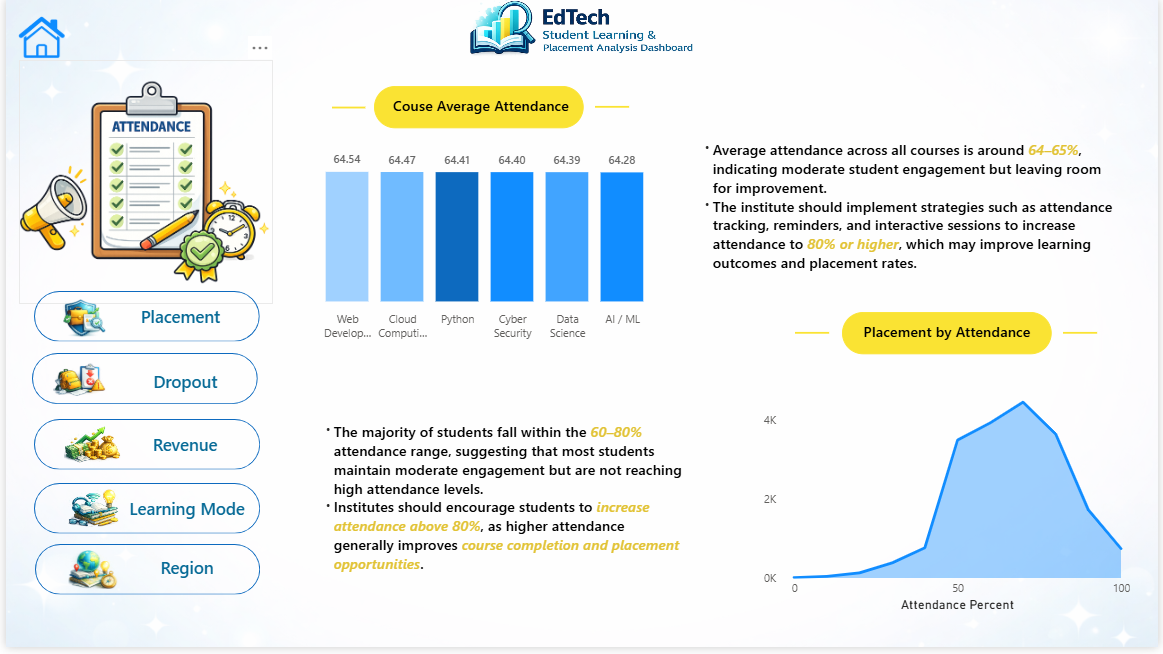

This screenshot's page, from the dashboard's own definition file:
{"tool":"powerbi","page":{"name":"Attendance page","canvas":[1280,720],"ordinal":1},"visuals":[{"type":"clusteredColumnChart","fields":{"Category":["project students_data.Course_Name"],"Y":["project students_data.Avg Attendance"]},"box":[317.5,155.2,421.2,231.5],"z":0},{"type":"shape","box":[31,466.6,251.2,56.4],"z":0,"group":"g2"},{"type":"areaChart","fields":{"Category":["project students_data.Attendance_Percent (bins) 3 (bins)"],"Y":["project students_data.Total plased Student"]},"box":[836.5,409.5,417.3,276.2],"z":1000},{"type":"textbox","box":[127,476.3,144.5,39],"z":1000,"group":"g2"},{"type":"image","box":[387.1,0,505.8,68.1],"z":2000},{"type":"image","box":[64,472.8,62.7,43.2],"z":2000,"group":"g2"},{"type":"image","box":[13.8,17.5,52.5,50],"z":3000},{"type":"shape","box":[31,537.6,251.2,56.4],"z":3000,"group":"g3"},{"type":"textbox","box":[408.9,96.9,233.4,46.7],"z":4000},{"type":"textbox","box":[129,548.1,144.5,39],"z":4000,"group":"g3"},{"type":"shape","box":[654,91.1,37.9,57.4],"z":5000},{"type":"image","box":[66.2,544.5,62.7,43.2],"z":5000,"group":"g3"},{"type":"textbox","box":[929.1,347.5,233.4,46.7],"z":6000},{"type":"shape","box":[32.8,605.9,250.2,56.4],"z":6000,"group":"g4"},{"type":"shape","box":[1174.3,341.7,37.9,57.4],"z":7000},{"type":"textbox","box":[129.2,613.5,144.5,39],"z":7000,"group":"g4"},{"type":"shape","box":[876.6,341.7,37.9,57.4],"z":8000},{"type":"image","box":[66.3,612.3,62.7,43.2],"z":8000,"group":"g4"},{"type":"textbox","box":[762.6,150.8,483.4,171.2],"z":9000},{"type":"textbox","box":[340.8,464.5,421.2,201.3],"z":10000},{"type":"shape","box":[31,324.4,250.7,56.2],"z":12000,"group":"g1"},{"type":"textbox","box":[120.7,333.9,145.4,39],"z":13000,"group":"g1"},{"type":"image","box":[14.2,67.4,282,271.3],"z":14000},{"type":"image","box":[55.1,333,62.3,43],"z":14000,"group":"g1"},{"type":"group","id":"g1","title":"Group 1","box":[31,324.4,250.9,56.7],"z":15000},{"type":"group","id":"g2","title":"Group 2","box":[31,466.6,250.9,56.7],"z":16000},{"type":"group","id":"g3","title":"Group 3","box":[31,537.6,251.8,56.7],"z":17000},{"type":"group","id":"g4","title":"Group 4","box":[32.8,605.9,250,56.7],"z":18000},{"type":"shape","box":[362.1,91.7,37.2,56.7],"z":19000},{"type":"shape","box":[29.3,392.8,250.8,56.7],"z":20000,"group":"g5"},{"type":"textbox","box":[127.8,406.5,142.8,35.5],"z":21000,"group":"g5"},{"type":"image","box":[52.3,398.6,58.9,48.9],"z":22000,"group":"g5"},{"type":"group","id":"g5","title":"Group 5","box":[29.3,392.8,250.8,56.7],"z":22001}]}

Visuals, with their boxes in screenshot pixels (x1, y1, x2, y2), scaled from the page's 1280x720 canvas onto the 1163x654 screenshot:
clusteredColumnChart - project students_data.Course_Name x project students_data.Avg Attendance: [288,141,671,351]
shape: [28,424,256,475]
areaChart - project students_data.Attendance_Percent (bins) 3 (bins) x project students_data.Total plased Student: [760,372,1139,623]
textbox: [115,433,247,468]
image: [352,0,811,62]
image: [58,429,115,469]
image: [13,16,60,61]
shape: [28,488,256,540]
textbox: [372,88,584,130]
textbox: [117,498,249,533]
shape: [594,83,629,135]
image: [60,495,117,534]
textbox: [844,316,1056,358]
shape: [30,550,257,602]
shape: [1067,310,1101,363]
textbox: [117,557,249,593]
shape: [796,310,831,363]
image: [60,556,117,595]
textbox: [693,137,1132,292]
textbox: [310,422,692,605]
shape: [28,295,256,346]
textbox: [110,303,242,339]
image: [13,61,269,308]
image: [50,302,107,342]
"Group 1" group: [28,295,256,346]
"Group 2" group: [28,424,256,475]
"Group 3" group: [28,488,257,540]
"Group 4" group: [30,550,257,602]
shape: [329,83,363,135]
shape: [27,357,254,408]
textbox: [116,369,246,401]
image: [48,362,101,406]
"Group 5" group: [27,357,254,408]
